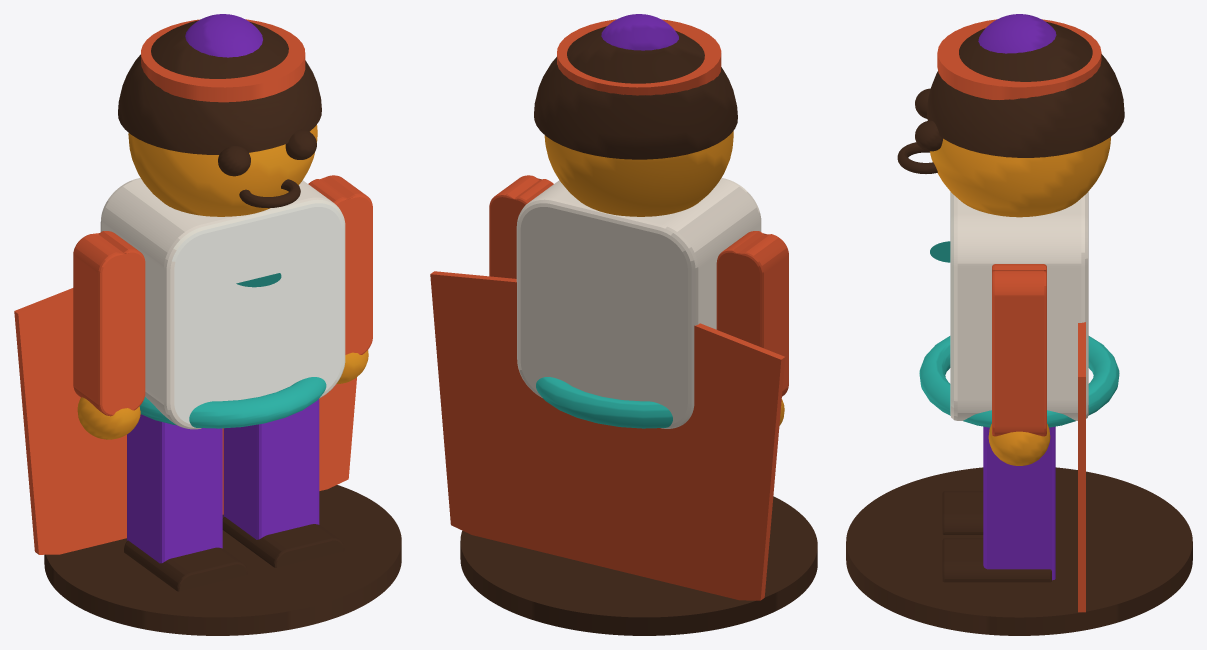
File: 1120_左传_晋惠公.glb
3 renders of one model, left to right at view 1: azimuth 30°, elevation 25°; view 2: azimuth 150°, elevation 25°; view 3: azimuth 270°, elevation 25°, orthographic.
Parts seen in each view (by area): view 1: card_1120; view 2: card_1120; view 3: card_1120.
Boxes of the visible parts, x1,y1,x2,y2 form: card_1120: (14,14,401,635); card_1120: (430,14,817,635); card_1120: (846,14,1192,635).
Size of the model in its own units: 0.6618 by 1 by 0.5679.
